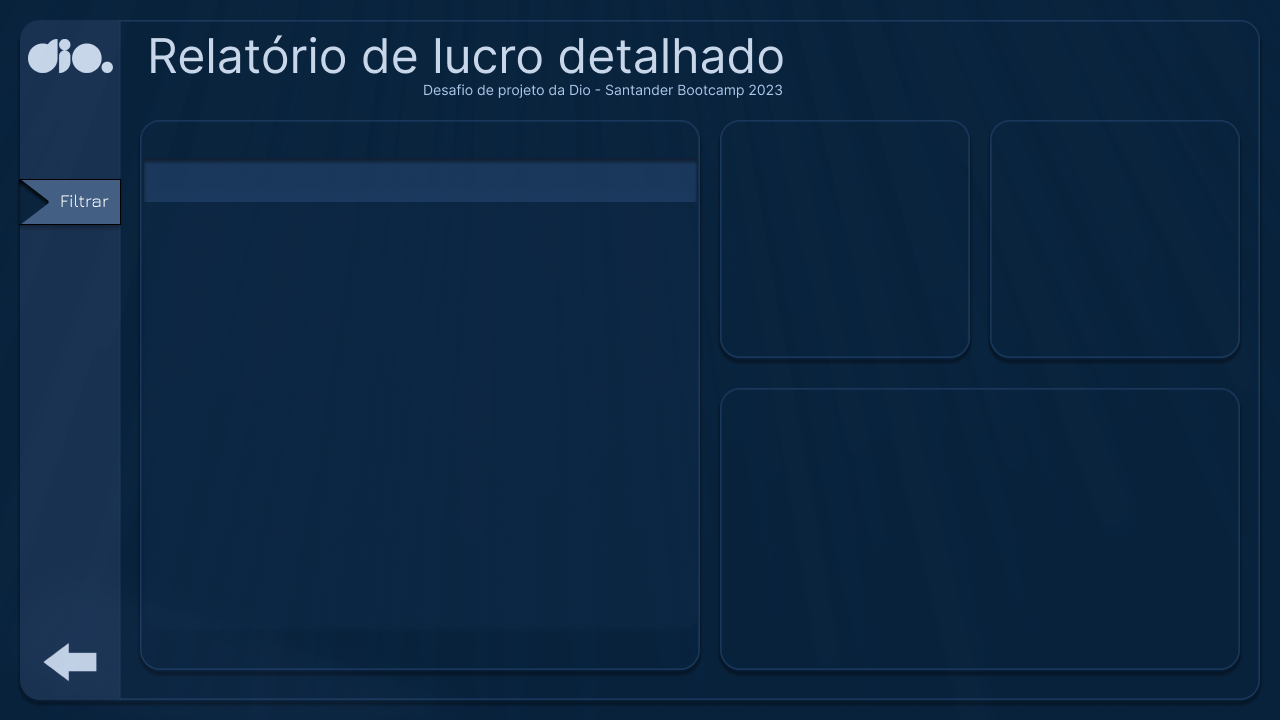

What the dashboard file says about the page in this screenshot:
{"tool":"powerbi","page":{"name":"Detalhes Profit","canvas":[1280,720],"ordinal":1},"visuals":[{"type":"slicer","fields":{"Values":["financials.Date.Variation.Hierarquia de datas.Ano"]},"box":[21.7,229.2,97.5,123.3],"z":0},{"type":"decompositionTreeVisual","title":"Profit X País","fields":{"Analyze":["Sum(financials.Profit)"],"ExplainBy":["financials.Date.Variation.Hierarquia de datas.Ano","financials.Country"]},"box":[139.1,130.9,561.8,537.3],"z":1000},{"type":"waterfallChart","title":"Profit por trimestre","fields":{"Y":["Sum(financials.Profit)"],"Category":["financials.Date.Variation.Hierarquia de datas.Trimestre"]},"box":[732.9,399.3,497.9,257.1],"z":2000},{"type":"columnChart","title":"Profit x Segmento","fields":{"Category":["financials.Segment"],"Y":["Sum(financials.Profit)"]},"box":[728.6,130.7,231.4,240],"z":3000},{"type":"RadarChart1446119667547","title":"Profit x Produto","fields":{"Category":["financials.Product"],"Y":["Sum(financials.Profit)"]},"box":[990,130.7,250,210],"z":4000},{"type":"actionButton","box":[32.9,637.1,71.4,45],"z":5000}]}

Visuals, with their boxes in screenshot pixels (x1, y1, x2, y2), scaled from the page's 1280x720 canvas onto the 1280x720 screenshot:
slicer - financials.Date.Variation.Hierarquia de datas.Ano: left=22, top=229, right=119, bottom=352
"Profit X País" decompositionTreeVisual: left=139, top=131, right=701, bottom=668
"Profit por trimestre" waterfallChart: left=733, top=399, right=1231, bottom=656
"Profit x Segmento" columnChart: left=729, top=131, right=960, bottom=371
"Profit x Produto" RadarChart1446119667547: left=990, top=131, right=1240, bottom=341
actionButton: left=33, top=637, right=104, bottom=682
